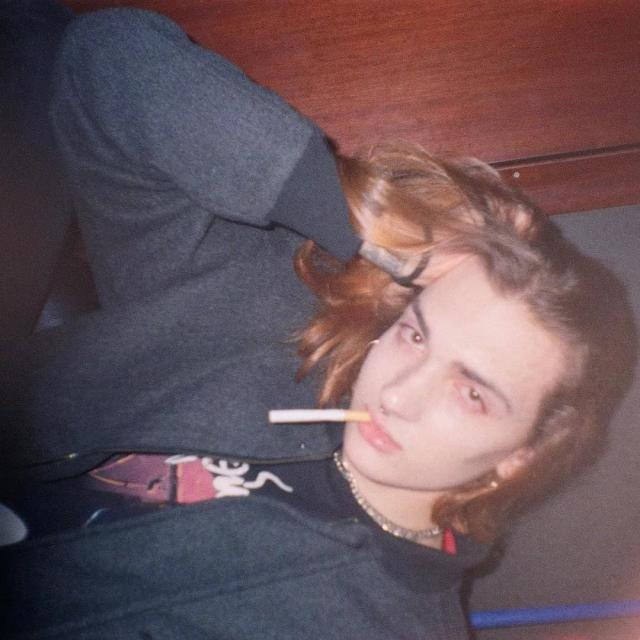smoke: (268, 401, 377, 432)
